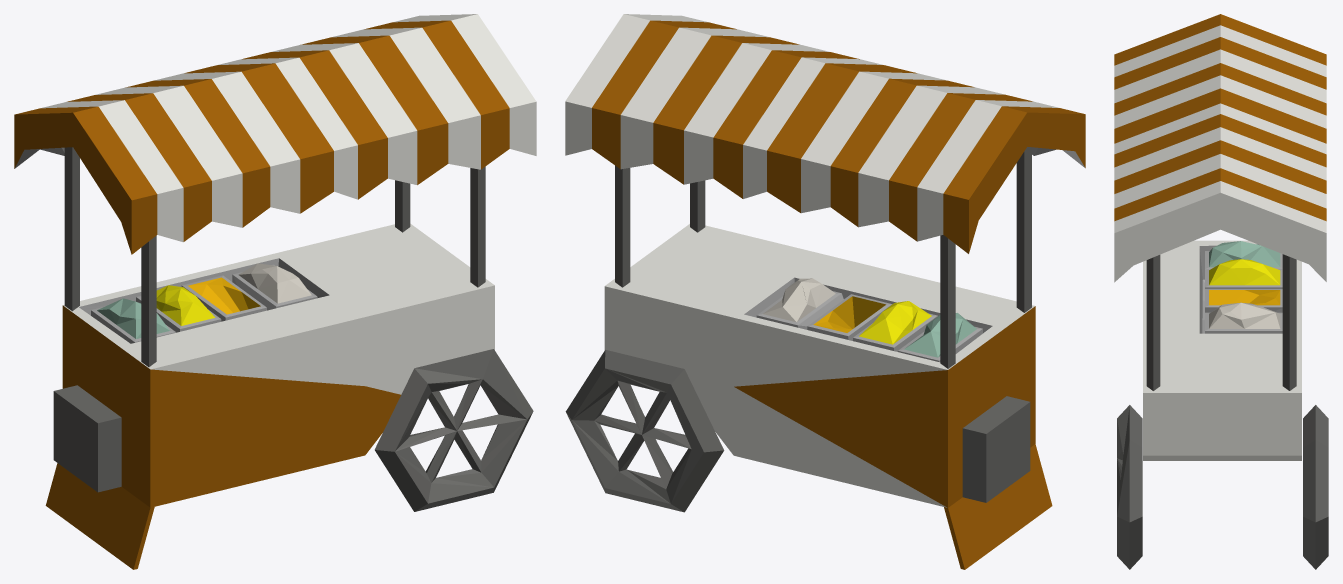
The model's file is icewaggon.fbx.
3 renders of one model, left to right at view 1: azimuth 30°, elevation 25°; view 2: azimuth 150°, elevation 25°; view 3: azimuth 270°, elevation 25°, orthographic. The views are drawn at different scales.
Parts seen in each view (by area): view 1: pCylinder24; view 2: pCylinder24; view 3: pCylinder24.
Boxes of the visible parts, x1,y1,x2,y2 form: pCylinder24: (14, 14, 536, 569); pCylinder24: (565, 14, 1085, 569); pCylinder24: (1114, 14, 1328, 569).
Bounding box in the file's own units: 0.0995 × 0.1004 × 0.0497.
